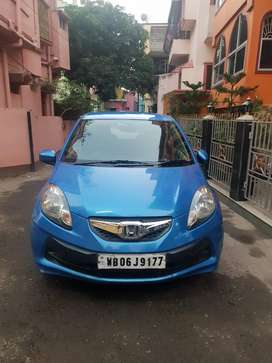WB06J9177: (96, 253, 165, 269)
